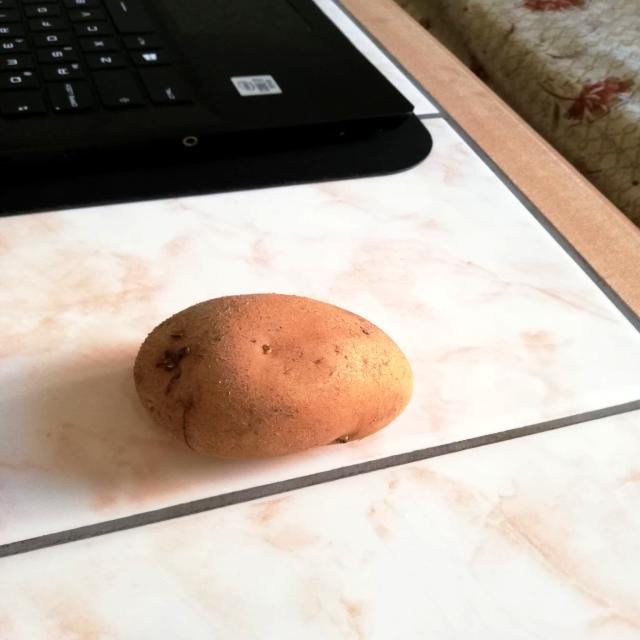potato: (129, 288, 422, 466)
